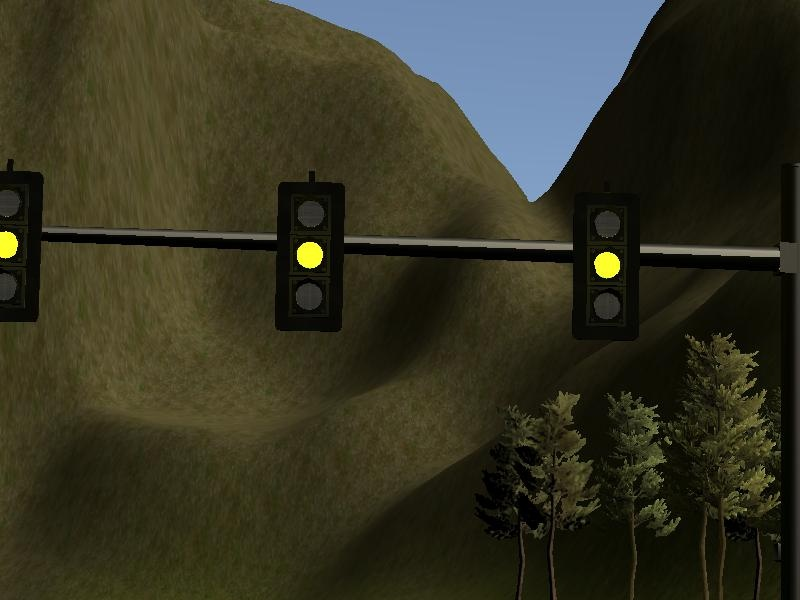YELLOW: (273, 180, 344, 333), (571, 189, 642, 342)
